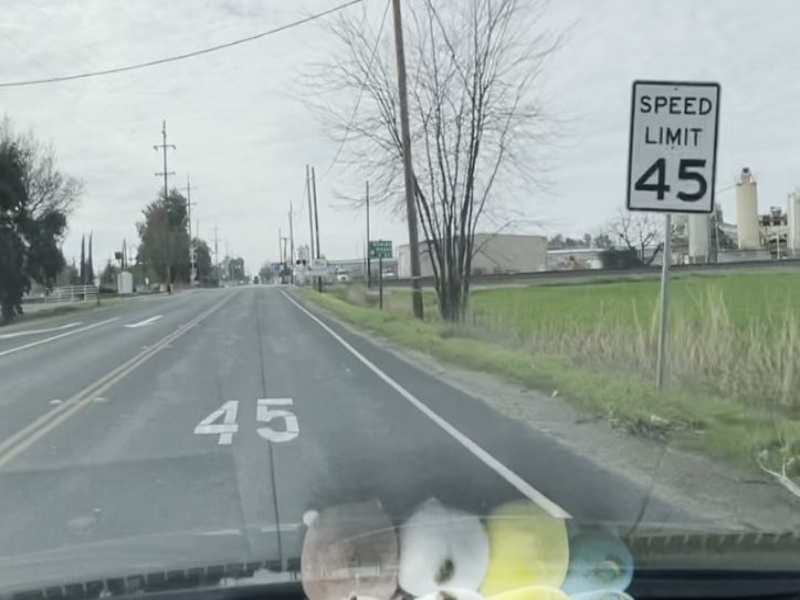speed limit sign: (623, 77, 722, 217)
